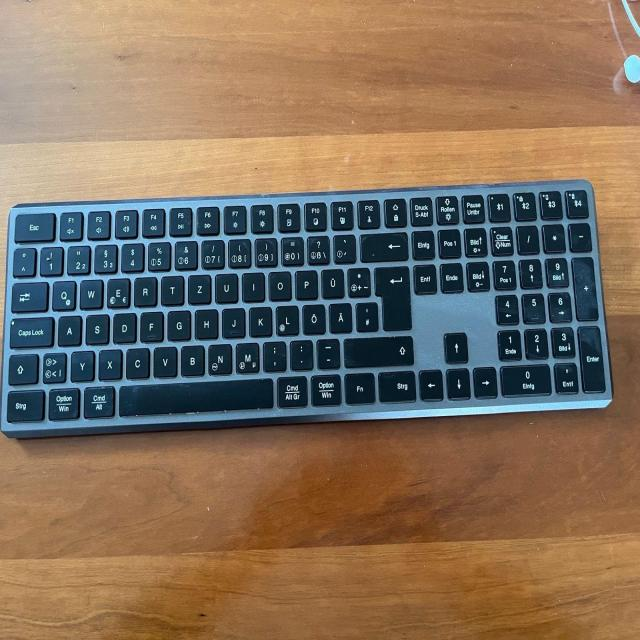0: (280, 234, 303, 264)
1: (38, 244, 61, 273)
2: (65, 243, 89, 273)
3: (92, 242, 116, 272)
4: (120, 240, 143, 270)
5: (146, 239, 170, 269)
6: (173, 238, 196, 268)
7: (200, 237, 223, 267)
8: (226, 236, 250, 267)
9: (253, 235, 276, 265)
a: (56, 313, 80, 344)
accent: (332, 231, 355, 261)
ae: (327, 300, 351, 331)
alt-left: (82, 383, 115, 416)
altgr-right: (275, 374, 306, 406)
b: (179, 342, 203, 374)
c: (124, 345, 148, 377)
caret: (11, 245, 34, 274)
comma: (261, 338, 285, 369)
d: (111, 311, 135, 342)
del: (359, 230, 407, 260)
e: (105, 275, 129, 306)
enter: (373, 264, 410, 329)
f: (139, 309, 162, 340)
g: (166, 308, 190, 339)
h: (193, 307, 217, 337)
hash: (354, 299, 377, 330)
i: (240, 270, 263, 300)
j: (221, 305, 244, 336)
k: (247, 304, 271, 335)
keyboard: (0, 177, 616, 444)
l: (274, 303, 298, 334)
less: (40, 350, 65, 381)
m: (234, 340, 259, 372)
minus: (315, 336, 339, 367)
n: (207, 341, 232, 373)
o: (267, 269, 290, 299)
oe: (301, 302, 324, 332)
p: (294, 268, 317, 297)
plus: (346, 265, 369, 296)
point: (288, 337, 312, 368)
q: (50, 278, 74, 308)
r: (133, 274, 156, 305)
s: (84, 312, 108, 343)
shift-left: (6, 351, 36, 383)
shift-lock: (8, 314, 53, 346)
shift-right: (342, 333, 416, 368)
space: (116, 377, 272, 418)
ss: (306, 233, 329, 263)
strg-left: (3, 387, 43, 420)
strg-right: (376, 368, 416, 401)
t: (160, 273, 183, 302)
tab: (9, 279, 47, 310)
u: (213, 271, 237, 301)
ue: (320, 266, 343, 296)
v: (152, 344, 177, 376)
w: (78, 276, 101, 307)
x: (97, 347, 121, 378)
y: (69, 348, 93, 379)
z: (187, 272, 210, 302)
